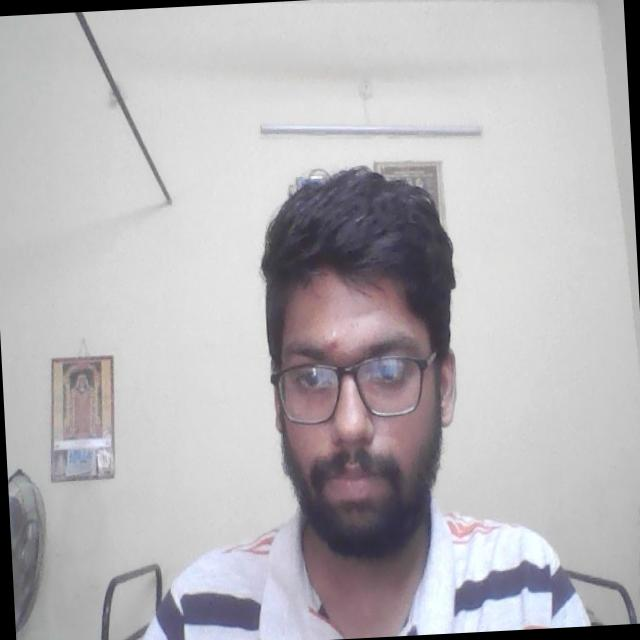Focused: (268, 293, 450, 528)
